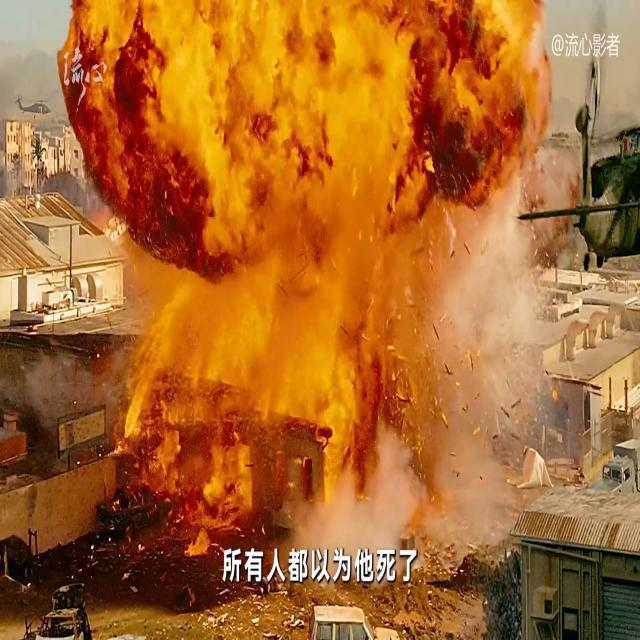fire: (53, 0, 552, 569)
